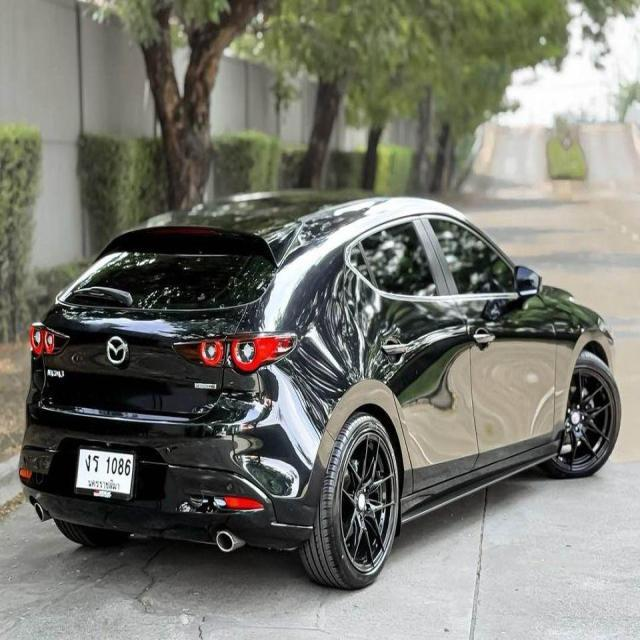Hatchback: (17, 192, 624, 593)
